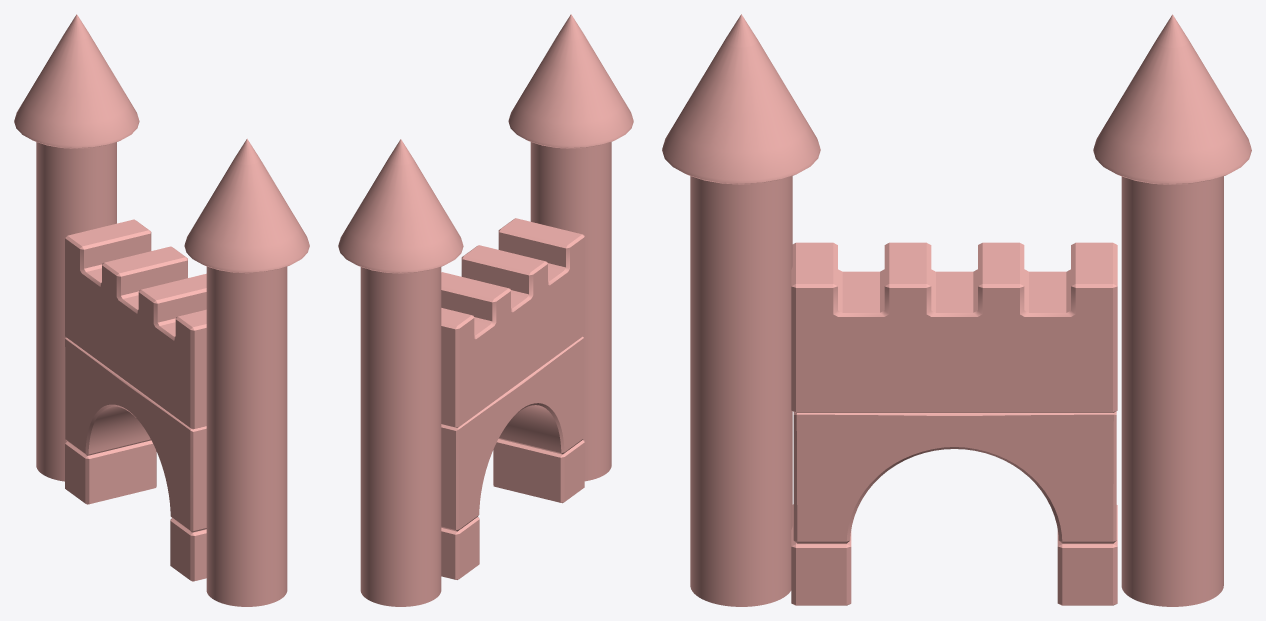
The model's file is Castle.fbx.
3 views of the same model, side by side, from view 1: azimuth 30°, elevation 25°; view 2: azimuth 150°, elevation 25°; view 3: azimuth 270°, elevation 25° (orthographic). The views are drawn at different scales.
Parts seen in each view (by area): view 1: Piece4, Piece8, Piece3, Piece7, Piece2, Piece1, Piece6, Piece5; view 2: Piece3, Piece8, Piece4, Piece7, Piece2, Piece1, Piece5, Piece6; view 3: Piece8, Piece3, Piece4, Piece7, Piece1, Piece2, Piece5, Piece6.
Boxes of the visible parts, <box> form: Piece4: <box>206,266,287,606</box>; Piece8: <box>65,219,206,429</box>; Piece3: <box>36,142,116,481</box>; Piece7: <box>65,337,206,532</box>; Piece2: <box>14,14,139,148</box>; Piece1: <box>184,138,309,273</box>; Piece6: <box>65,440,156,504</box>; Piece5: <box>170,518,206,581</box>; Piece3: <box>360,267,441,606</box>; Piece8: <box>441,218,584,427</box>; Piece4: <box>530,142,611,481</box>; Piece7: <box>441,336,584,531</box>; Piece2: <box>338,139,463,273</box>; Piece1: <box>508,14,633,148</box>; Piece5: <box>493,439,584,503</box>; Piece6: <box>441,517,479,579</box>; Piece8: <box>791,242,1117,412</box>; Piece3: <box>1121,176,1223,606</box>; Piece4: <box>690,176,792,606</box>; Piece7: <box>793,411,1116,543</box>; Piece1: <box>662,14,820,184</box>; Piece2: <box>1093,14,1251,184</box>; Piece5: <box>791,504,851,605</box>; Piece6: <box>1057,505,1117,605</box>.
Bounding box in the file's own units: 33.83 × 134 × 126.
